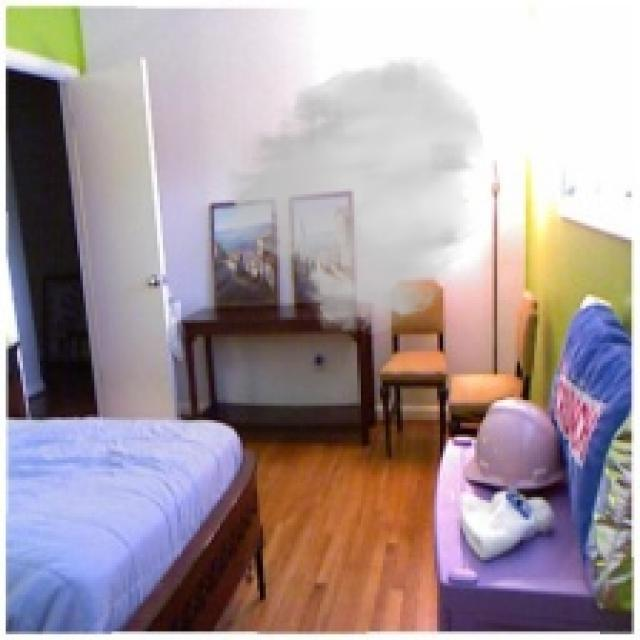smoke: (214, 54, 486, 337)
